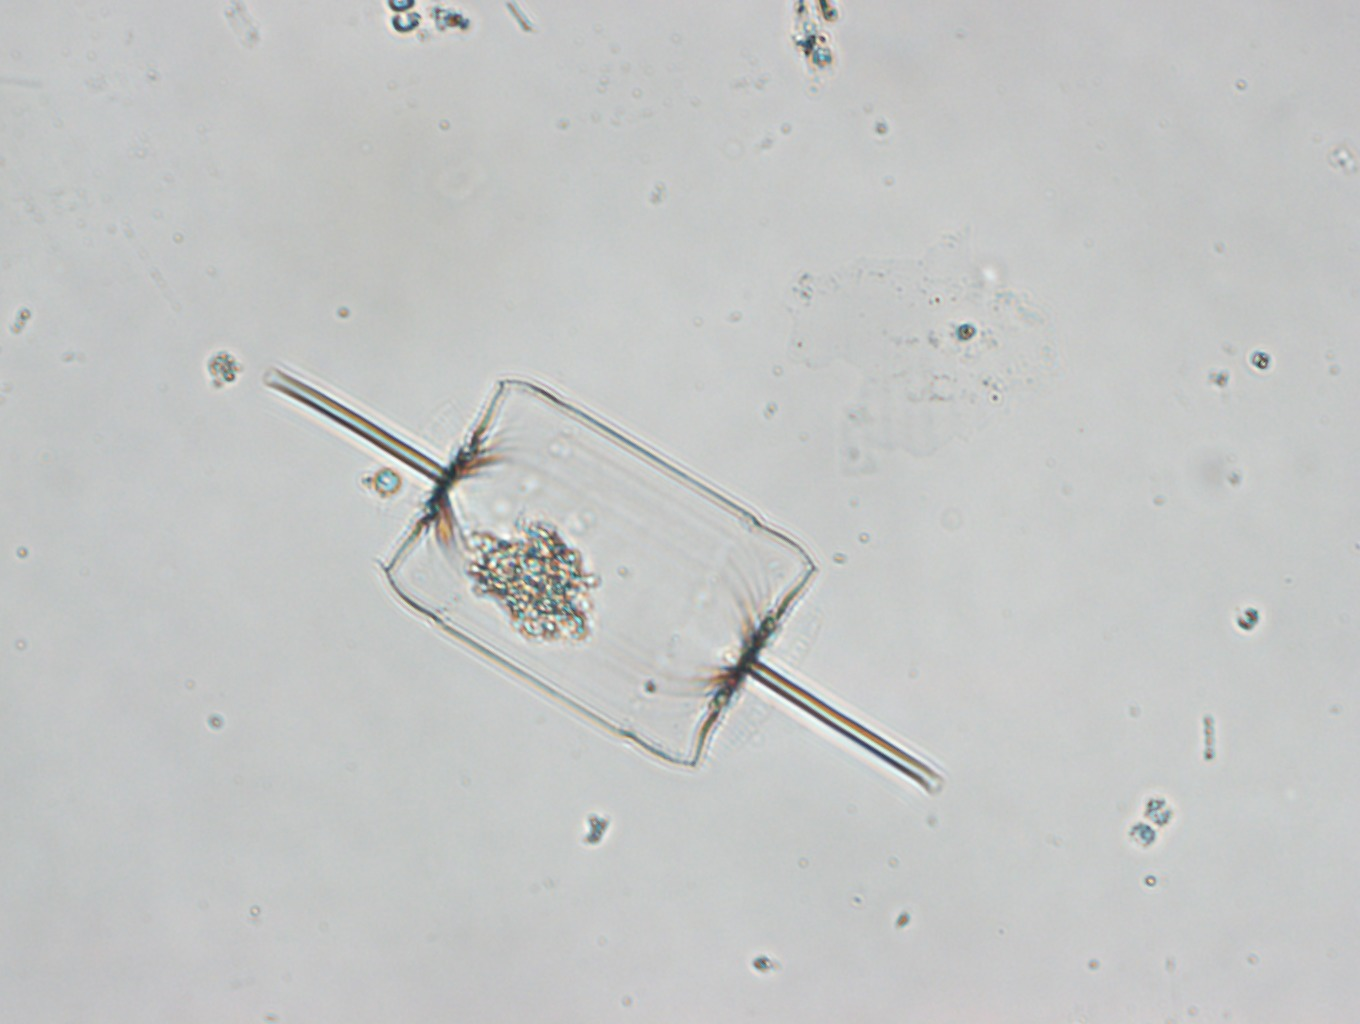ditylum: (261, 362, 944, 795)
